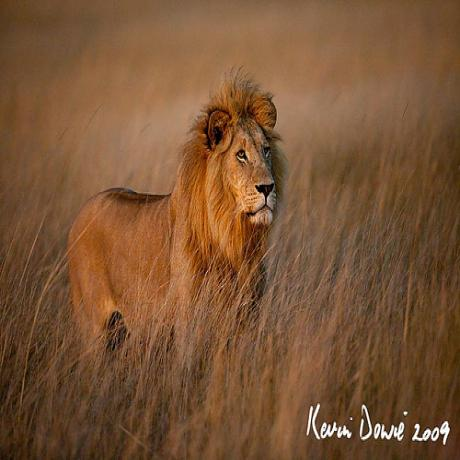Lion: (65, 82, 283, 337)
